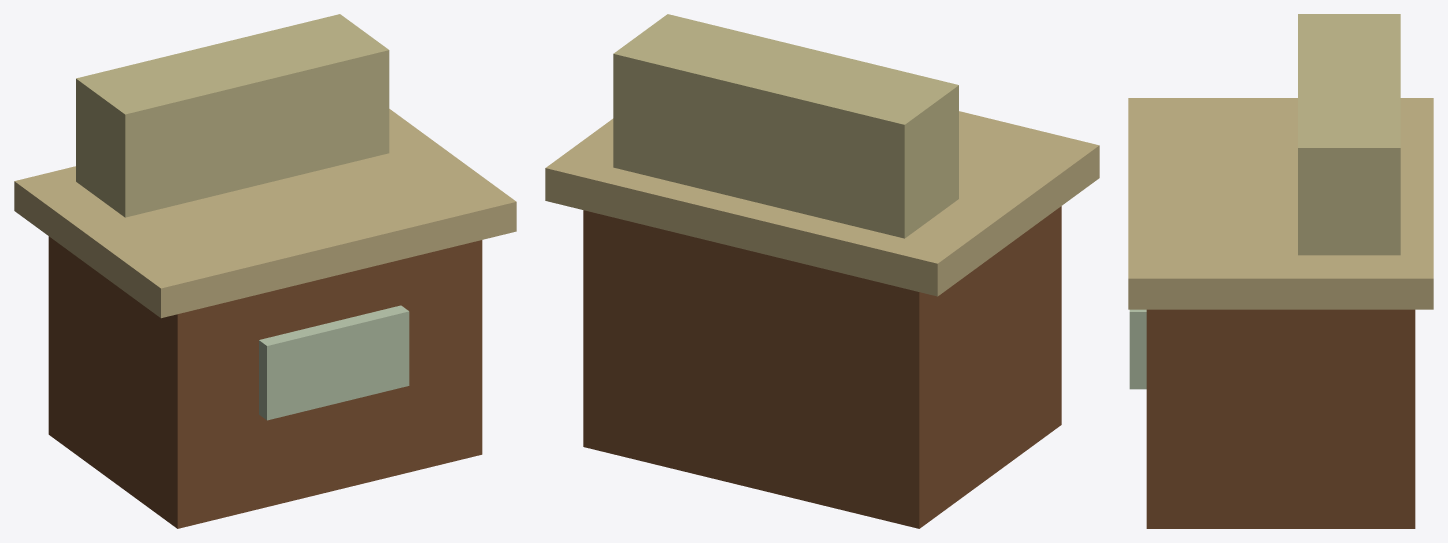
Rendered from planter_box.glb.
The picture shows the model from 3 angles, left to right: view 1: azimuth 30°, elevation 25°; view 2: azimuth 150°, elevation 25°; view 3: azimuth 270°, elevation 25°; orthographic projection. The views are drawn at different scales.
Parts seen in each view (by area): view 1: body, functional_surface, upper, accent_panel; view 2: body, upper, functional_surface; view 3: body, functional_surface, upper, accent_panel.
Boxes of the visible parts, left/top/right/bottom form: body: left=48, top=236, right=482, bottom=528; functional_surface: left=14, top=109, right=516, bottom=318; upper: left=76, top=14, right=389, bottom=217; accent_panel: left=259, top=305, right=409, bottom=420; body: left=583, top=206, right=1061, bottom=528; upper: left=613, top=14, right=958, bottom=238; functional_surface: left=545, top=111, right=1099, bottom=296; body: left=1146, top=309, right=1415, bottom=528; functional_surface: left=1128, top=98, right=1433, bottom=309; upper: left=1298, top=14, right=1400, bottom=255; accent_panel: left=1129, top=309, right=1146, bottom=389.
Size of what is drawn, in the model's own units: 1.75 by 1.68 by 1.25.
